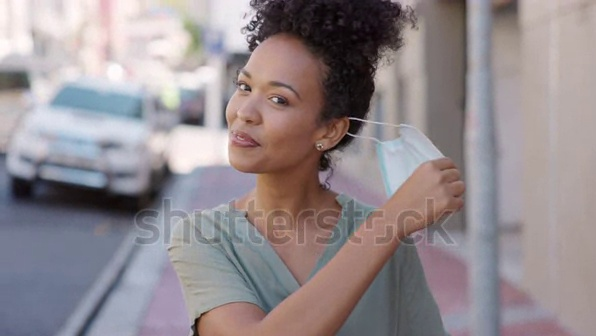No Mask: (204, 112, 319, 181)
